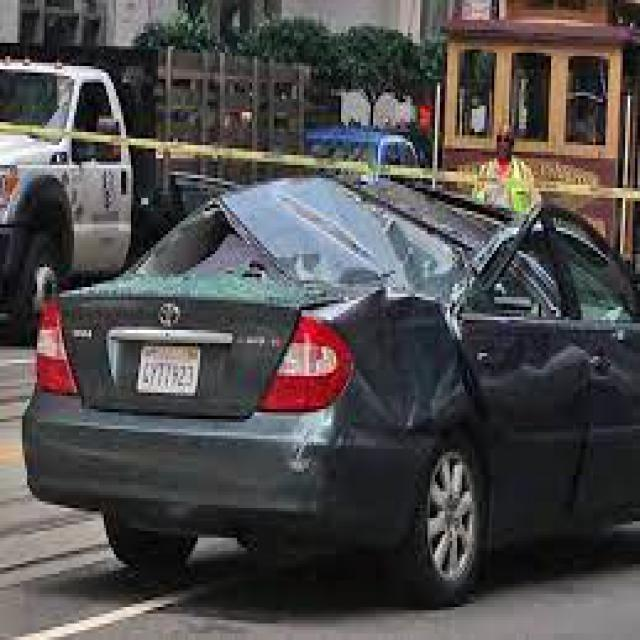quaterpanel-dent: (326, 277, 479, 518)
roof-dent: (242, 155, 559, 284)
